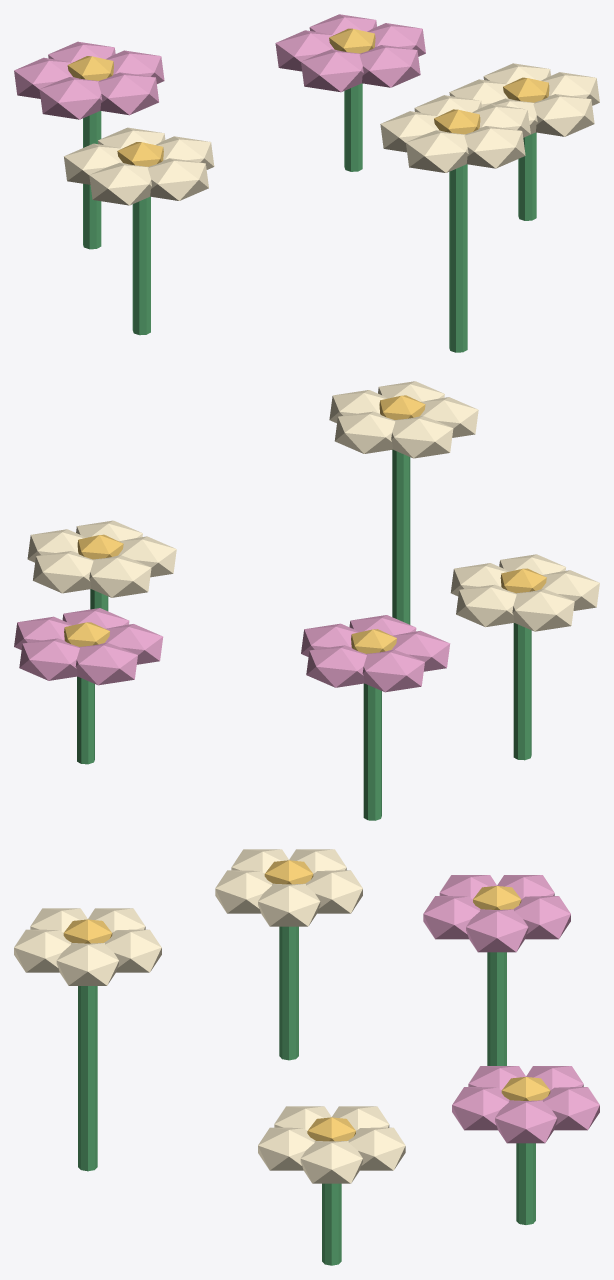
File: flowers.glb
3 renders of one model, top to bottom at view 1: azimuth 30°, elevation 25°; view 2: azimuth 150°, elevation 25°; view 3: azimuth 270°, elevation 25°, orthographic. The views are drawn at different scales.
Parts seen in each view (by area): view 1: Stem.002, Stem.004, Petal.018, Petal.023, Petal.013, Petal.008, Petal.004, Petal.009, Petal.014, Petal.019, Petal.024, Stem.001 (+23 smaller); view 2: Stem.002, Stem.001, Stem.004, Petal.002, Petal.017, Petal.007, Petal.022, Petal.012, Petal.006, Petal.011, Petal.016, Petal.001 (+22 smaller); view 3: Stem.002, Stem.004, Stem.001, Petal.015, Petal.005, Petal.020, Petal, Petal.010, Petal.016, Petal.019, Petal.006, Petal.009 (+23 smaller).
Boxes of the visible parts, x1,y1,x2,y2 form: Stem.002: (449, 164, 467, 352); Stem.004: (132, 196, 150, 335); Petal.018: (301, 49, 363, 92); Petal.023: (89, 162, 151, 205); Petal.013: (406, 130, 468, 172); Petal.008: (39, 77, 102, 119); Petal.004: (533, 94, 594, 136); Petal.009: (98, 72, 158, 115); Petal.014: (464, 126, 525, 168); Petal.019: (359, 45, 420, 87); Petal.024: (148, 158, 208, 200); Stem.001: (83, 111, 101, 249); Stem.002: (392, 449, 410, 624); Stem.001: (363, 683, 381, 820); Stem.004: (513, 623, 531, 760); Petal.002: (89, 555, 151, 597); Petal.017: (75, 642, 137, 685); Petal.007: (362, 649, 424, 692); Petal.022: (512, 589, 574, 631); Petal.012: (391, 416, 453, 458); Petal.006: (306, 645, 366, 687); Petal.011: (334, 411, 395, 453); Petal.016: (19, 638, 79, 680); Petal.001: (33, 551, 93, 593); Stem.002: (78, 986, 97, 1171); Stem.004: (279, 926, 298, 1060); Stem.001: (487, 952, 506, 1065); Petal.015: (495, 1100, 557, 1143); Petal.005: (466, 909, 528, 952); Petal.020: (258, 883, 320, 926); Petal: (300, 1141, 362, 1183); Petal.010: (56, 943, 118, 985); Petal.016: (542, 1087, 599, 1130); Petal.019: (452, 1087, 509, 1130); Petal.006: (513, 896, 570, 939); Petal.009: (423, 896, 480, 939).
Bounding box in the file's own units: 0.7879 × 0.335 × 0.7181.
